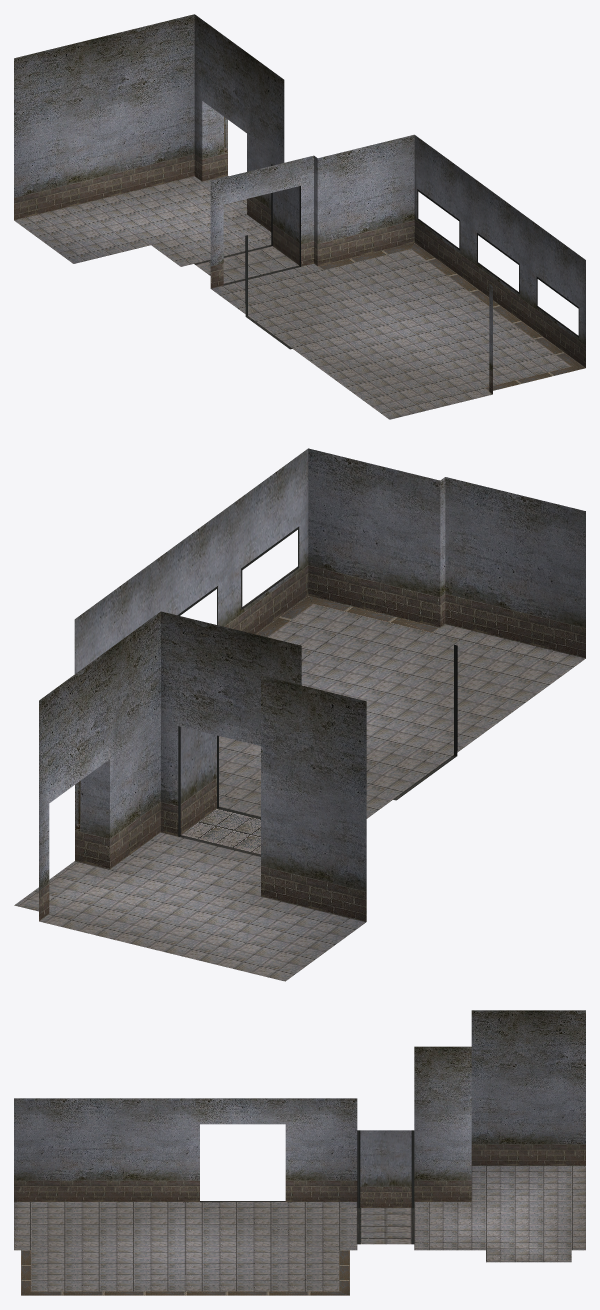
Rendered from M11Z2_SCUDHouse03.glb.
3 views of the same model, one above another, from view 1: azimuth 30°, elevation 25°; view 2: azimuth 150°, elevation 25°; view 3: azimuth 270°, elevation 25° (orthographic). The views are drawn at different scales.
Visible parts, largest first — view 1: M11Z2_SCUDHOUSE03; view 2: M11Z2_SCUDHOUSE03; view 3: M11Z2_SCUDHOUSE03.
Part boxes in pixels (bbox=[...]): M11Z2_SCUDHOUSE03: bbox=[14, 14, 585, 419]; M11Z2_SCUDHOUSE03: bbox=[14, 448, 585, 981]; M11Z2_SCUDHOUSE03: bbox=[14, 1010, 585, 1295].
Bounding box in the file's own units: 10.75 × 6 × 20.
8 materials, 8 textured.
